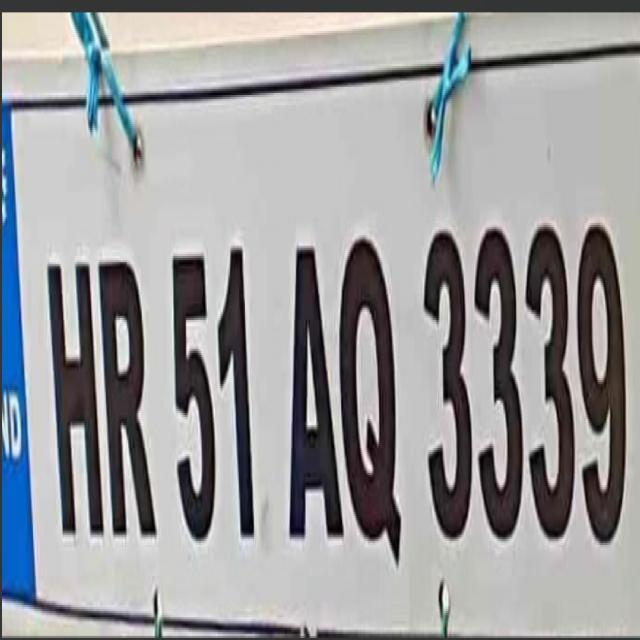1: (216, 226, 261, 560)
3: (471, 198, 528, 564), (417, 202, 474, 564), (521, 198, 578, 558)
5: (169, 239, 219, 567)
9: (573, 187, 632, 549)
A: (282, 218, 349, 551)
H: (39, 248, 108, 555)
Q: (327, 220, 412, 580)
R: (94, 235, 161, 567)
